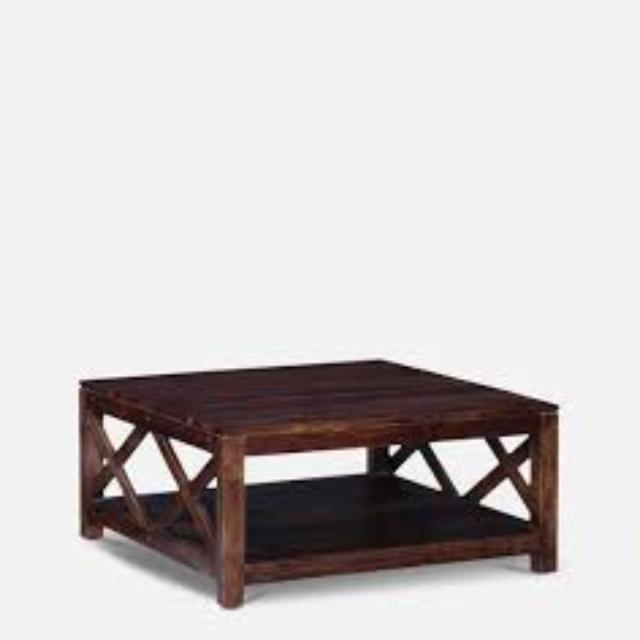obstacle: (59, 306, 581, 606), (637, 305, 640, 606)
